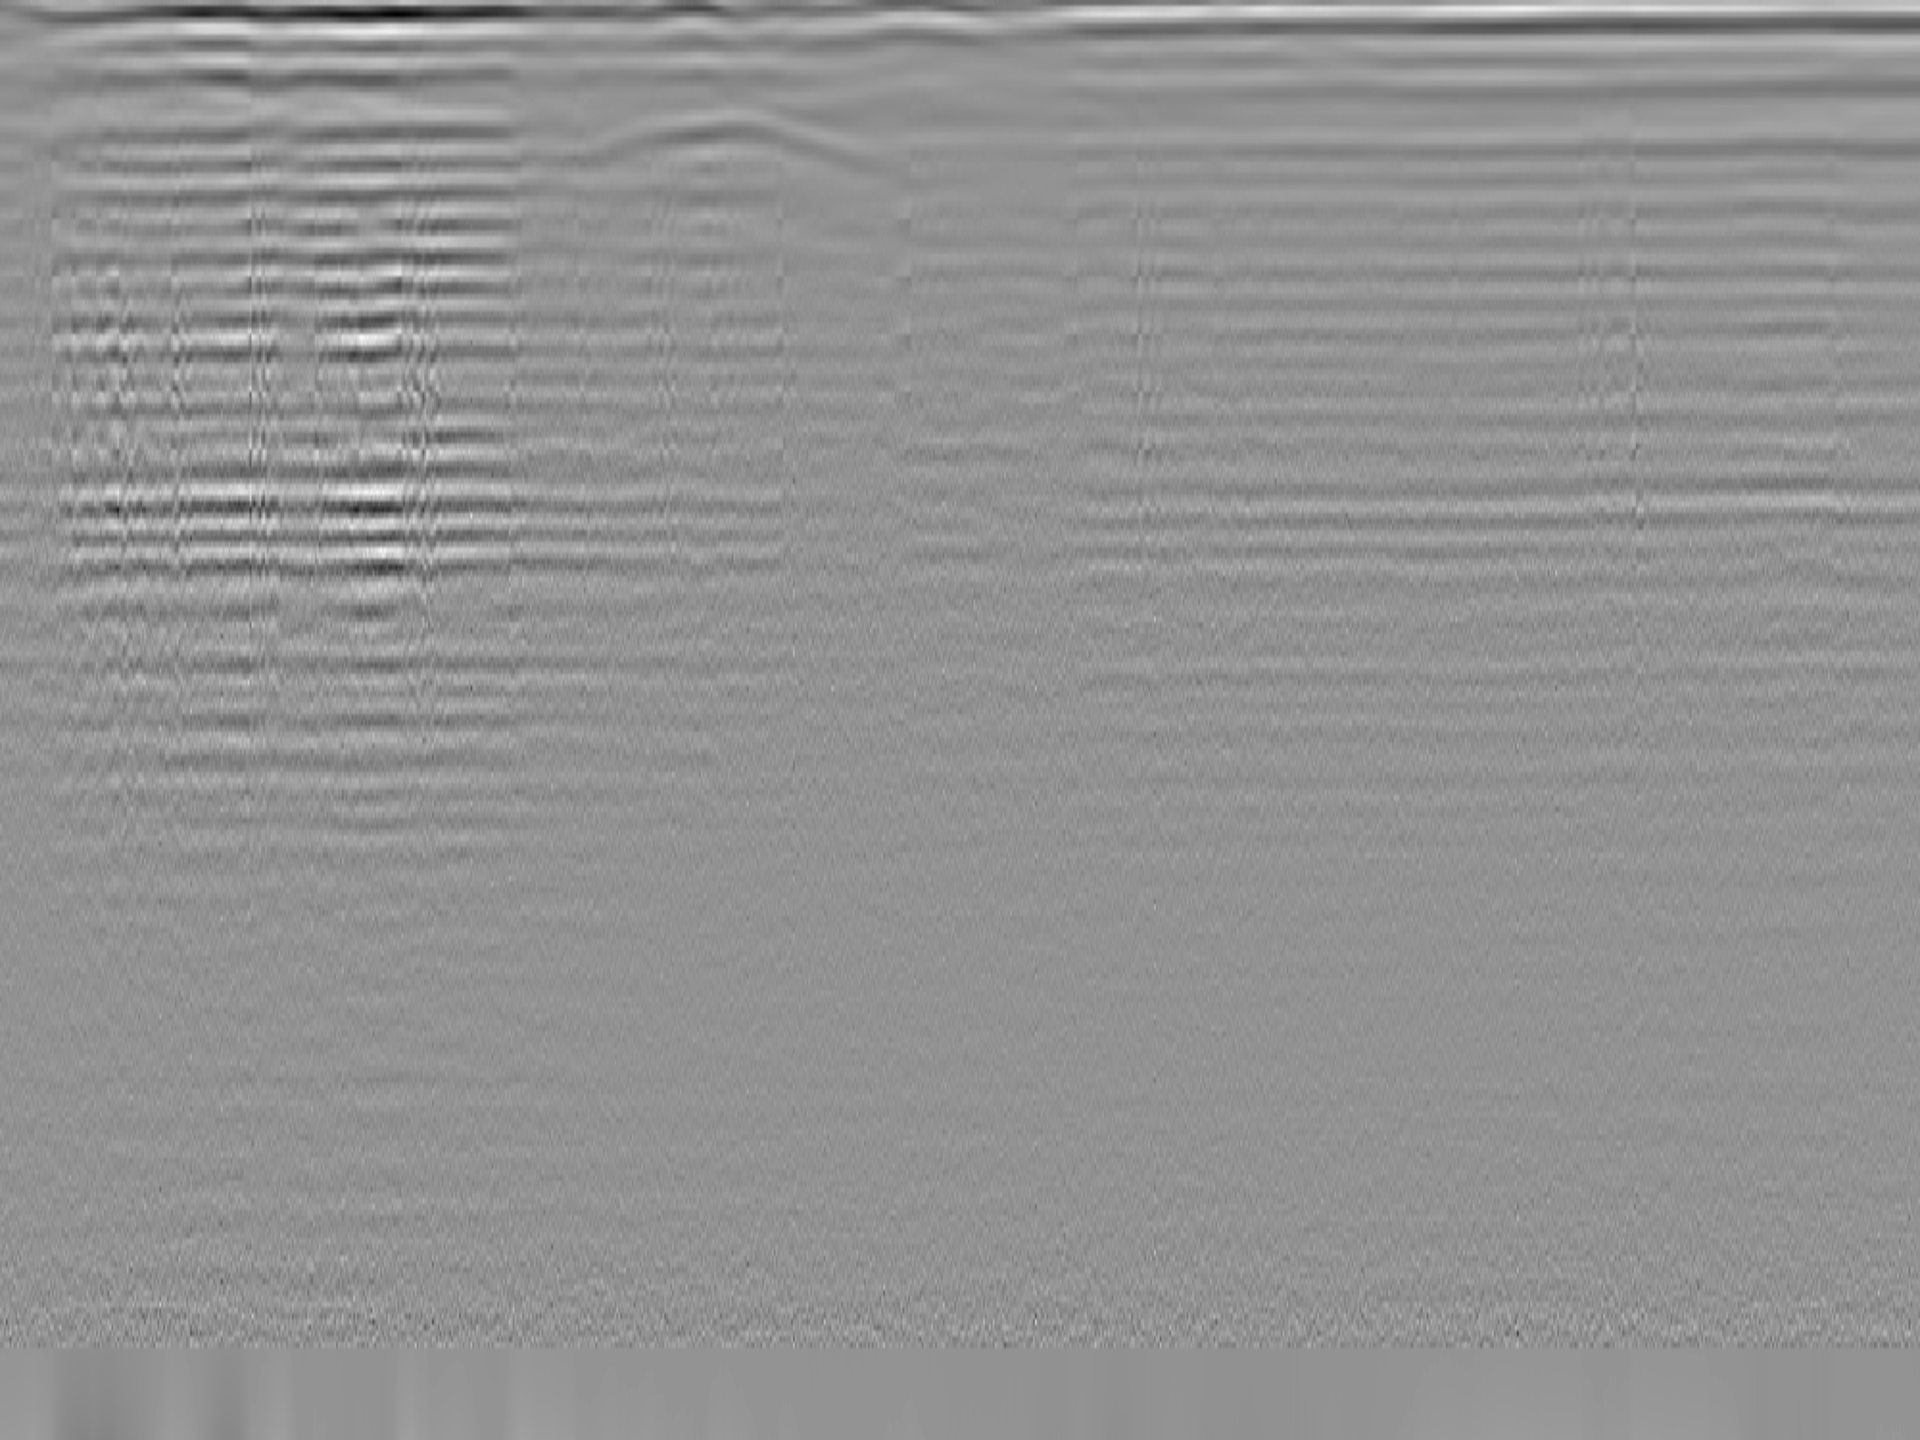Tunnel: (567, 106, 901, 169)
